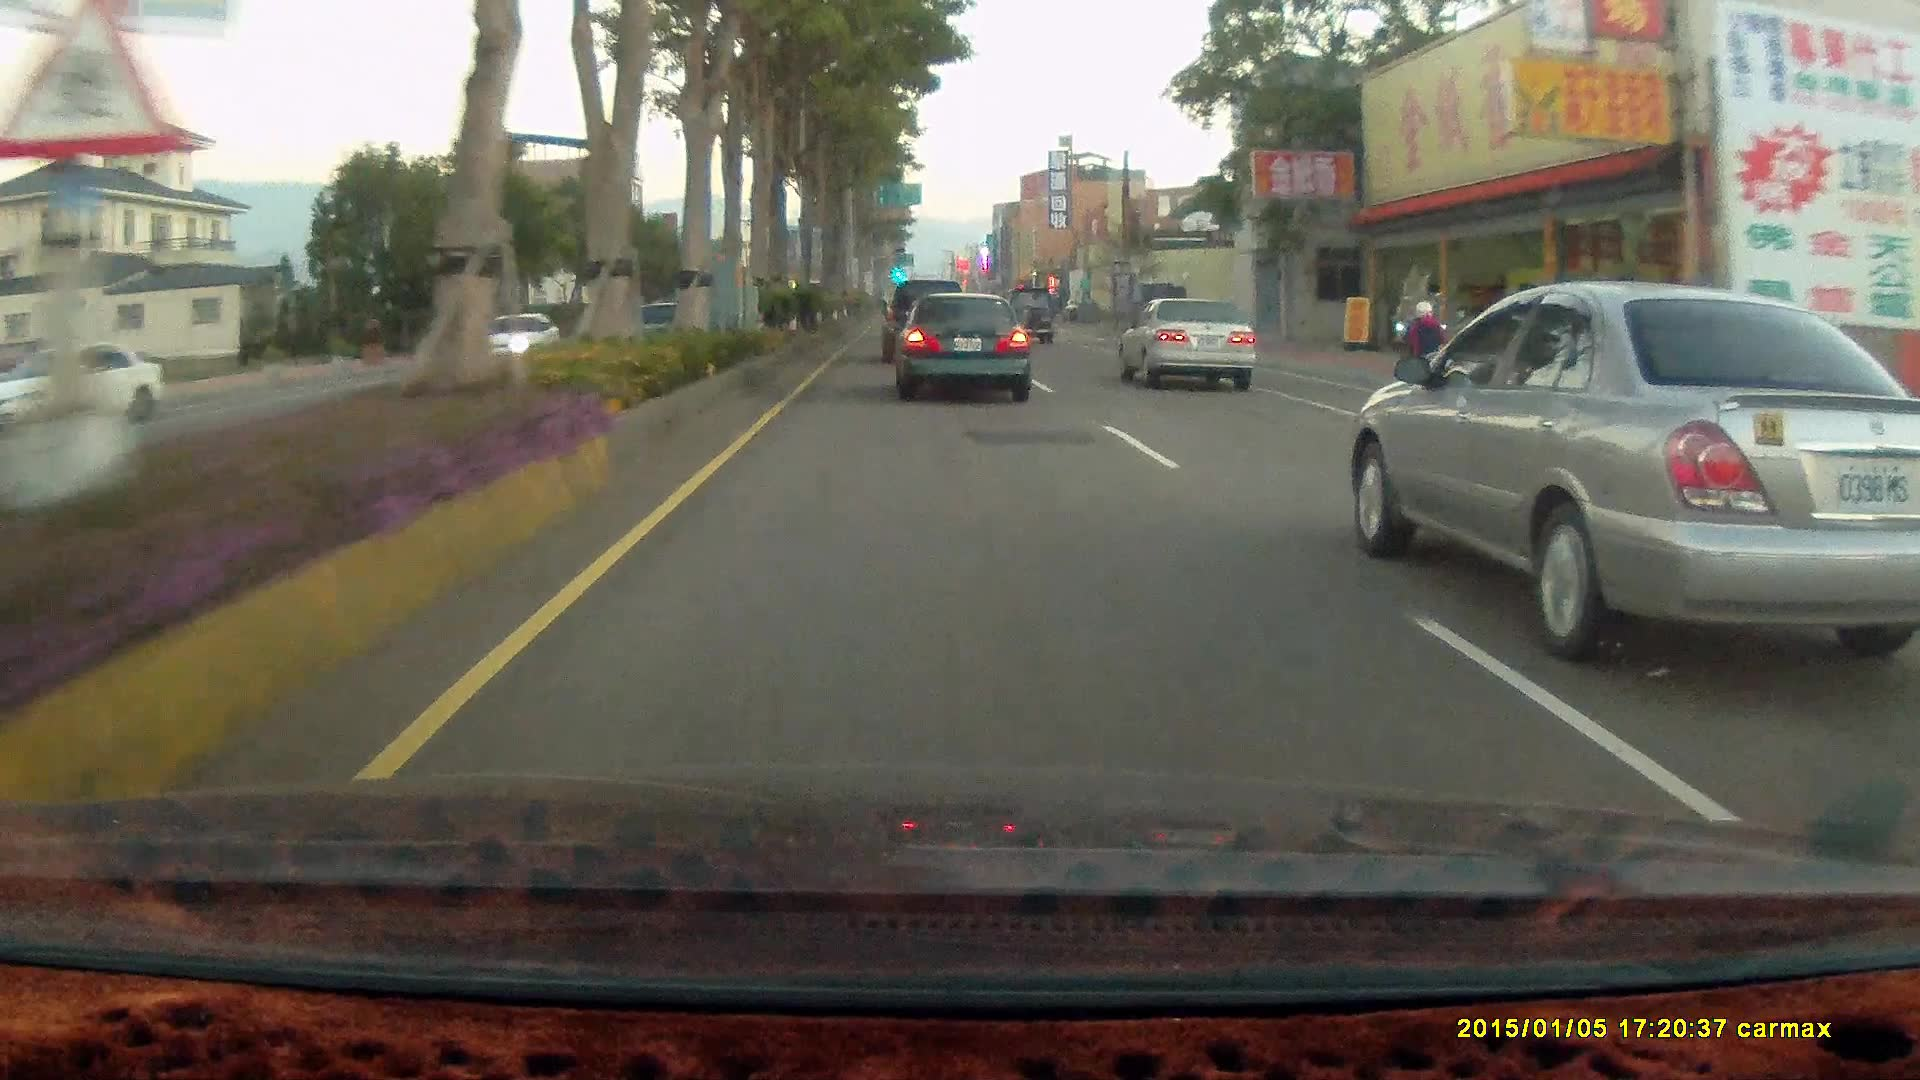rider: (1382, 292, 1461, 420), (1397, 299, 1456, 408)
vehicle: (1342, 289, 1920, 642), (1, 342, 170, 440), (892, 293, 1035, 407), (891, 293, 1032, 405), (1, 343, 166, 436), (1114, 296, 1256, 392), (1122, 304, 1263, 399), (883, 282, 973, 366), (882, 278, 965, 365), (468, 310, 559, 367), (464, 311, 562, 363), (1129, 281, 1186, 336), (1003, 283, 1054, 345)
